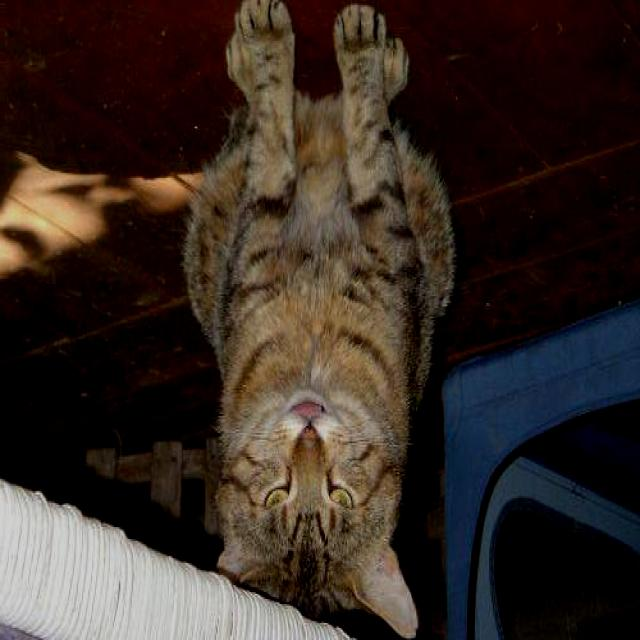Kucing: (115, 0, 464, 639)
